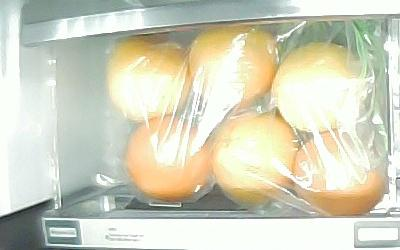grapefruit_vinyl: (273, 41, 370, 131), (215, 111, 299, 209), (296, 130, 387, 218), (189, 26, 280, 111), (126, 116, 215, 202), (108, 36, 189, 121)
